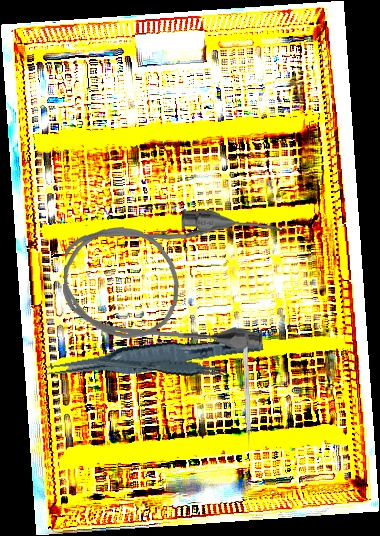Cannula: (60, 202, 281, 352)
Hook Surgical: (242, 335, 252, 454)
Tissue Forceps: (44, 322, 264, 390), (96, 342, 233, 394)
